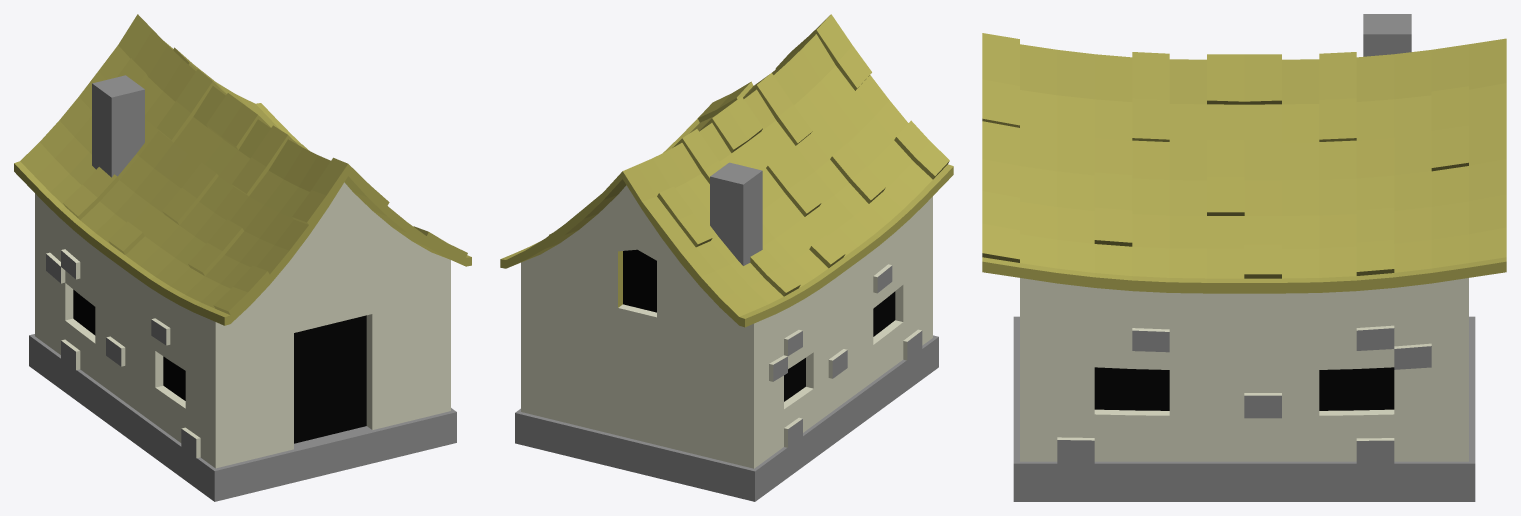
The model's file is House1.fbx.
3 views of the same model, side by side, from view 1: azimuth 30°, elevation 25°; view 2: azimuth 150°, elevation 25°; view 3: azimuth 270°, elevation 25° (orthographic). The views are drawn at different scales.
Parts seen in each view (by area): view 1: Cube.012; view 2: Cube.012; view 3: Cube.012.
Boxes of the visible parts, <box> form: Cube.012: <box>14,14,471,501</box>; Cube.012: <box>500,14,953,501</box>; Cube.012: <box>982,14,1506,501</box>.
Size of the model in its own units: 840 by 1033 by 1240.
